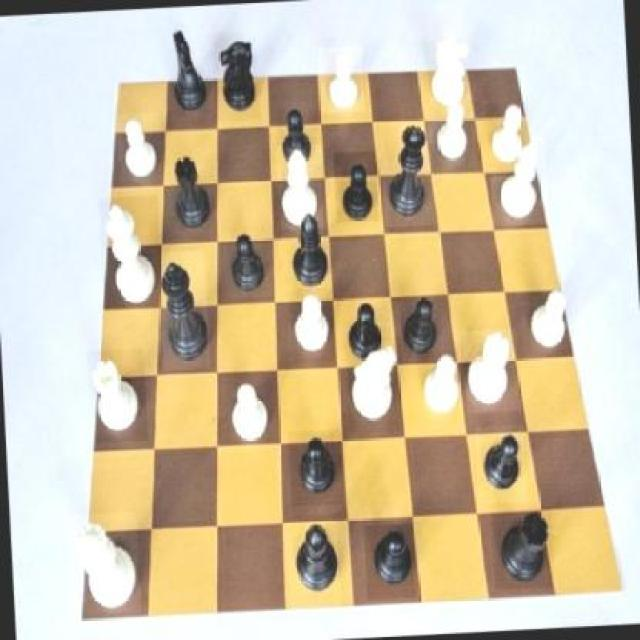bishop: (286, 522, 342, 610), (280, 214, 337, 294)
black-bishop: (158, 251, 212, 371)
black-king: (160, 21, 214, 117), (211, 32, 260, 122)
black-knight: (288, 429, 344, 507), (272, 99, 325, 178), (476, 424, 528, 504), (364, 524, 418, 600), (395, 292, 448, 365), (223, 231, 275, 298), (334, 151, 378, 223), (342, 296, 388, 364)
black-pawn: (380, 122, 437, 228)
black-queen: (490, 508, 554, 590), (163, 149, 220, 237)
black-rook: (489, 137, 549, 228), (277, 144, 325, 230)
white-bishop: (100, 196, 165, 312)
white-king: (344, 335, 406, 433), (419, 28, 476, 120)
white-knight: (222, 372, 279, 457), (520, 286, 576, 362), (484, 101, 534, 178), (432, 92, 480, 172), (417, 350, 465, 426), (117, 112, 163, 188), (291, 288, 337, 362), (318, 46, 366, 114)
white-pawn: (68, 512, 140, 617)
white-queen: (86, 348, 149, 443), (463, 329, 520, 414)
